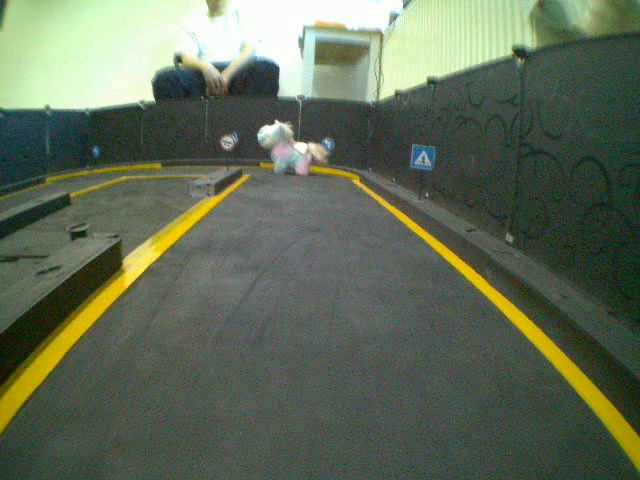unicorn: (258, 116, 339, 175)
